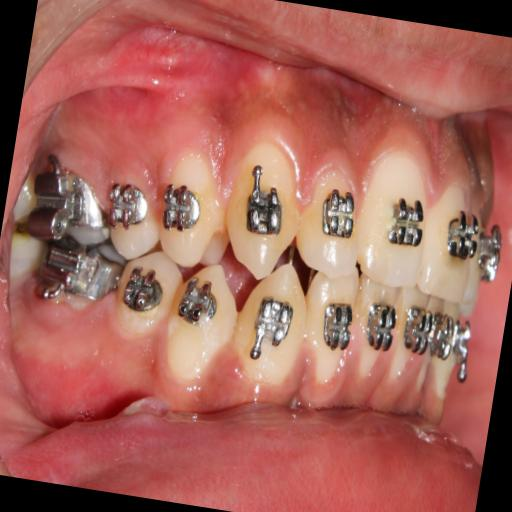correct_brace: (157, 254, 247, 400), (149, 132, 232, 273), (236, 160, 292, 244), (241, 292, 301, 368), (381, 190, 430, 252), (172, 271, 223, 330), (316, 185, 360, 242)
incorrect_brace: (290, 152, 368, 280), (157, 176, 207, 235)
